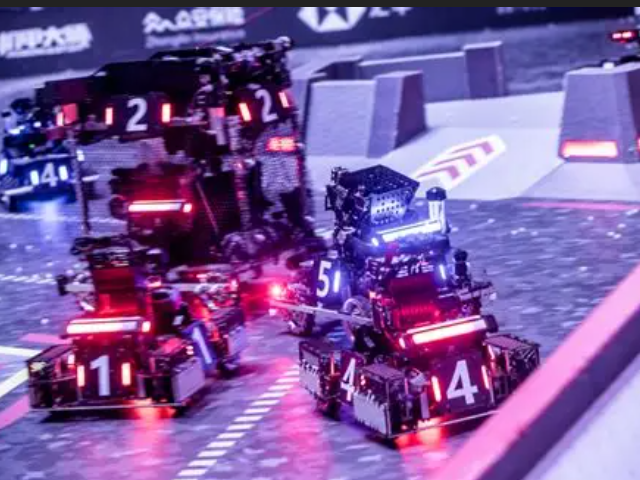rm: (83, 40, 310, 322), (305, 238, 543, 442), (33, 238, 237, 417), (281, 169, 476, 337), (0, 96, 79, 209)
